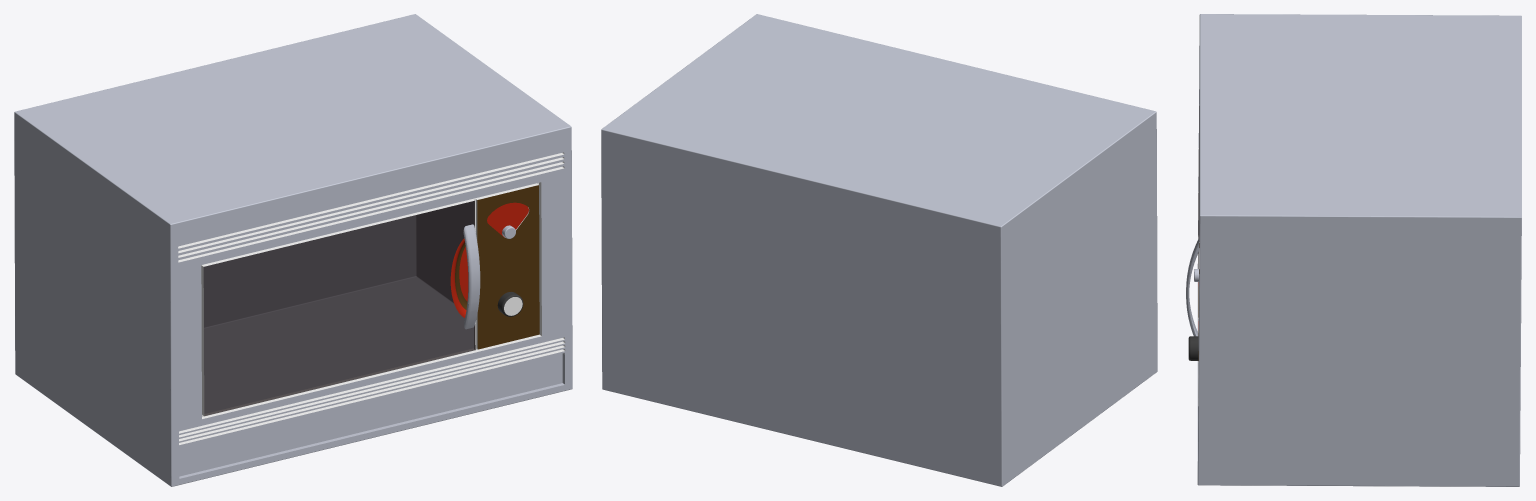
Rendered from Polantis-MicroWave.FBX.
The picture shows the model from 3 angles, left to right: view 1: azimuth 30°, elevation 25°; view 2: azimuth 150°, elevation 25°; view 3: azimuth 270°, elevation 25°; orthographic projection. The views are drawn at different scales.
Parts seen in each view (by area): view 1: 19_mi_Pa.2; view 2: 19_mi_Pa.2; view 3: 19_mi_Pa.2.
Boxes of the visible parts, box(x1,y1,x2,y2) form: 19_mi_Pa.2: box(14, 14, 572, 486); 19_mi_Pa.2: box(601, 14, 1157, 486); 19_mi_Pa.2: box(1186, 14, 1521, 486).
Size of the model in its own units: 47.29 by 33.25 by 29.67.
